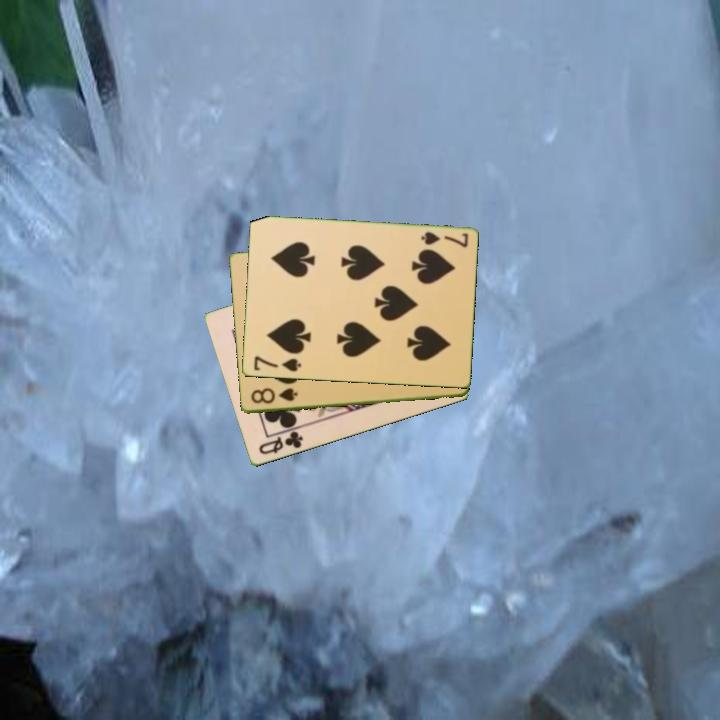7s: (250, 352, 304, 375), (418, 228, 471, 251)
8s: (247, 385, 300, 407)
Qc: (255, 425, 306, 458)
